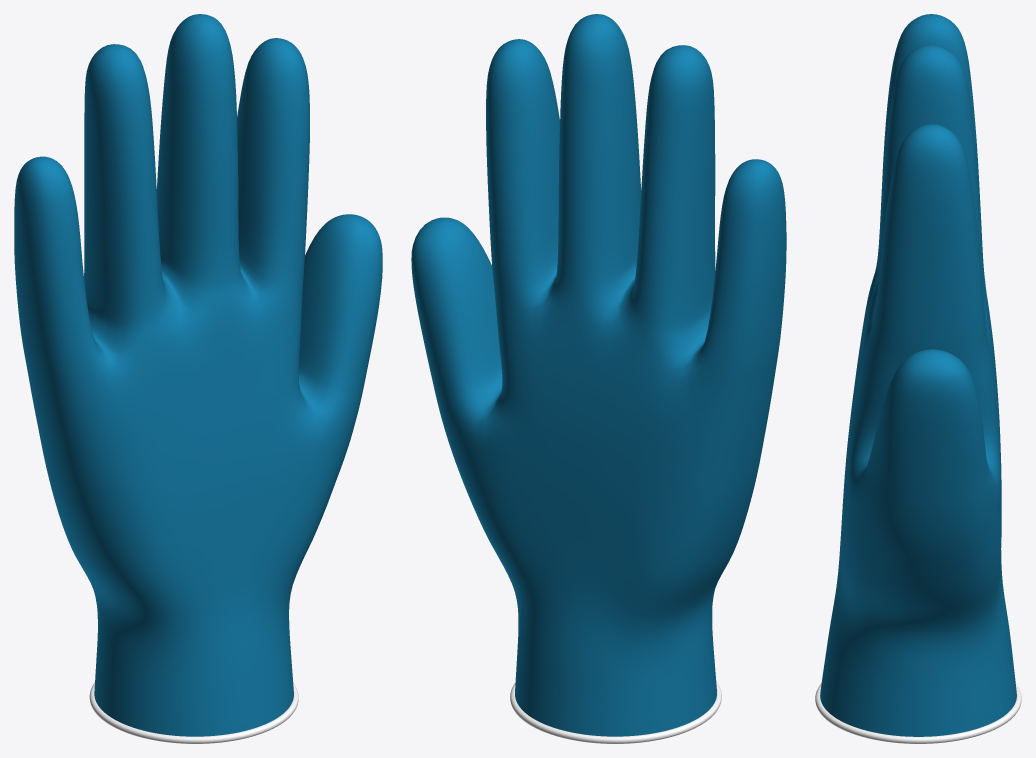
Rendered from diamond-silverlined-latex--blue-silverlined.glb.
3 renders of one model, left to right at view 1: azimuth 30°, elevation 25°; view 2: azimuth 150°, elevation 25°; view 3: azimuth 270°, elevation 25°, orthographic. The views are drawn at different scales.
Visible parts, largest first — view 1: pCube8; view 2: pCube8; view 3: pCube8.
Boxes of the visible parts, box(x1,y1,x2,y2) form: pCube8: box(14, 14, 382, 743); pCube8: box(411, 14, 786, 743); pCube8: box(815, 14, 1021, 743).
Bounding box in the file's own units: 0.1386 × 0.2531 × 0.0716.
Materials: 1 (1 with a texture image).
